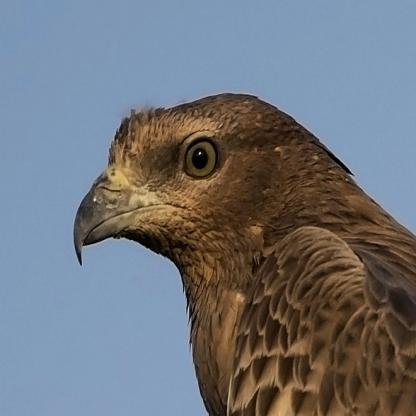Burung: (68, 91, 415, 415)
